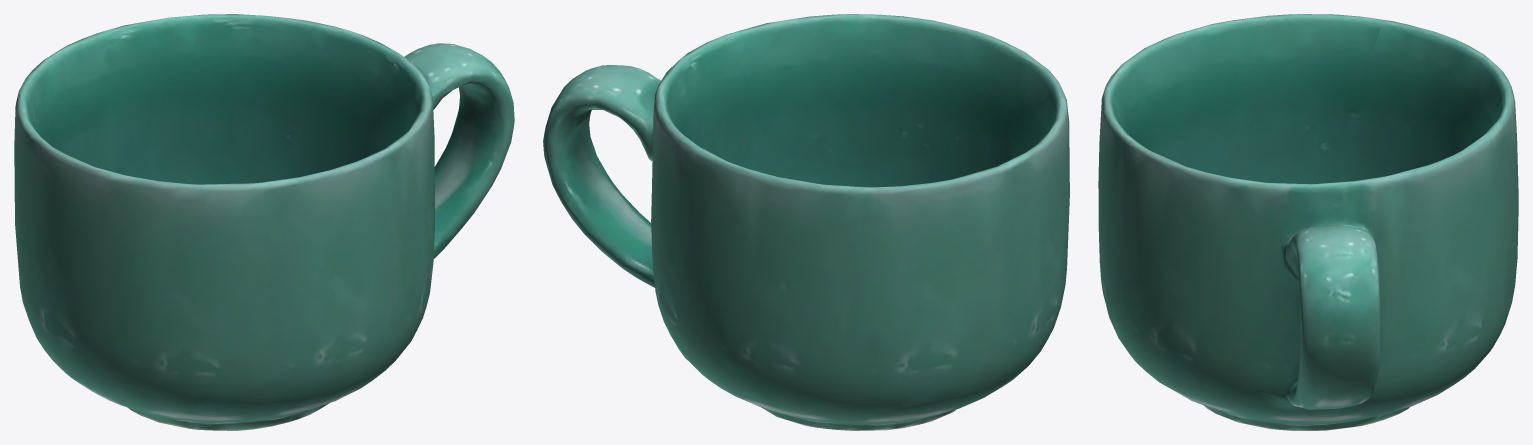
Rendered from mug-blue.glb.
The picture shows the model from 3 angles, left to right: view 1: azimuth 30°, elevation 25°; view 2: azimuth 150°, elevation 25°; view 3: azimuth 270°, elevation 25°; orthographic projection.
Visible parts, largest first — view 1: Cole_Hardware_Mug_Classic_Blue; view 2: Cole_Hardware_Mug_Classic_Blue; view 3: Cole_Hardware_Mug_Classic_Blue.
Part boxes in pixels (x1,y1,x2,y2): Cole_Hardware_Mug_Classic_Blue: (14,14,514,430); Cole_Hardware_Mug_Classic_Blue: (543,14,1069,430); Cole_Hardware_Mug_Classic_Blue: (1098,14,1518,430).
Bounding box in the file's own units: 0.1654 × 0.0948 × 0.1255.
Materials: 1 (1 with a texture image).
